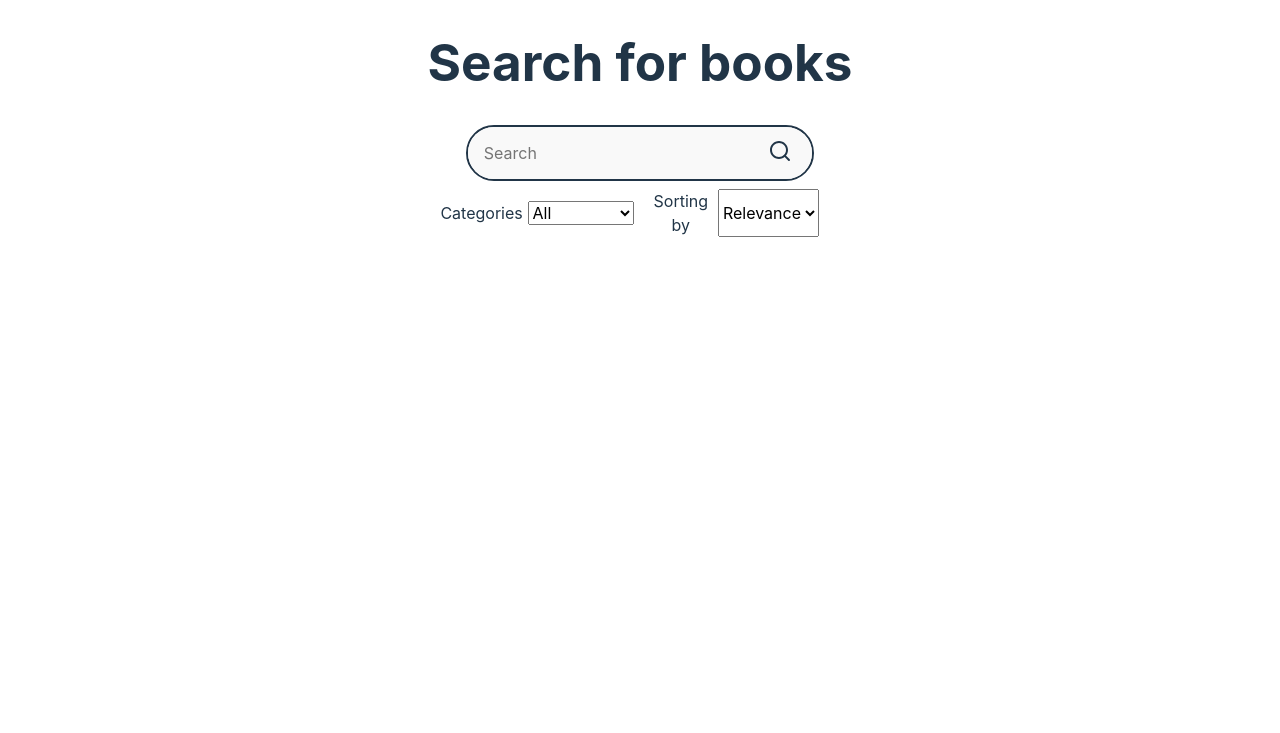
Scenario: should switch between pages
The width and height of the screenshot is (1280, 733).
Type keys "Dawn"
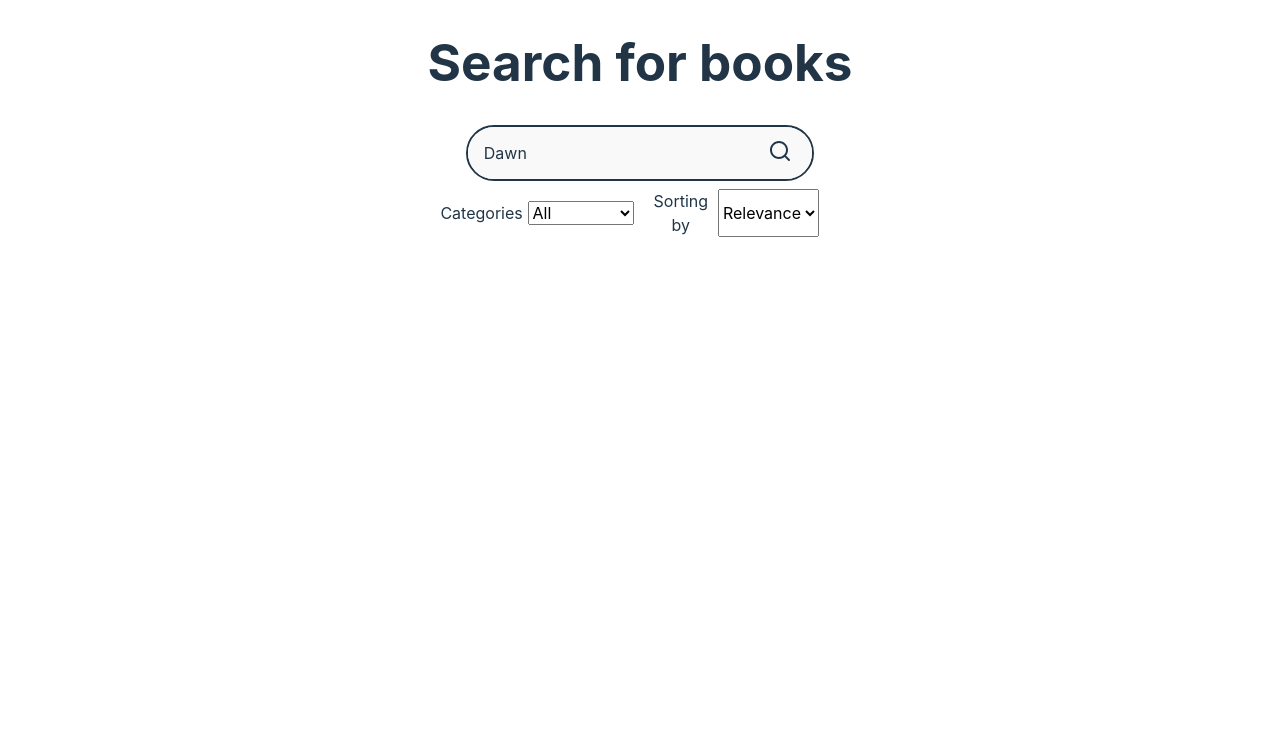
Select "Newest" in the dropdown labelled "Sorting by" at (768, 213), box [718, 189, 819, 237]
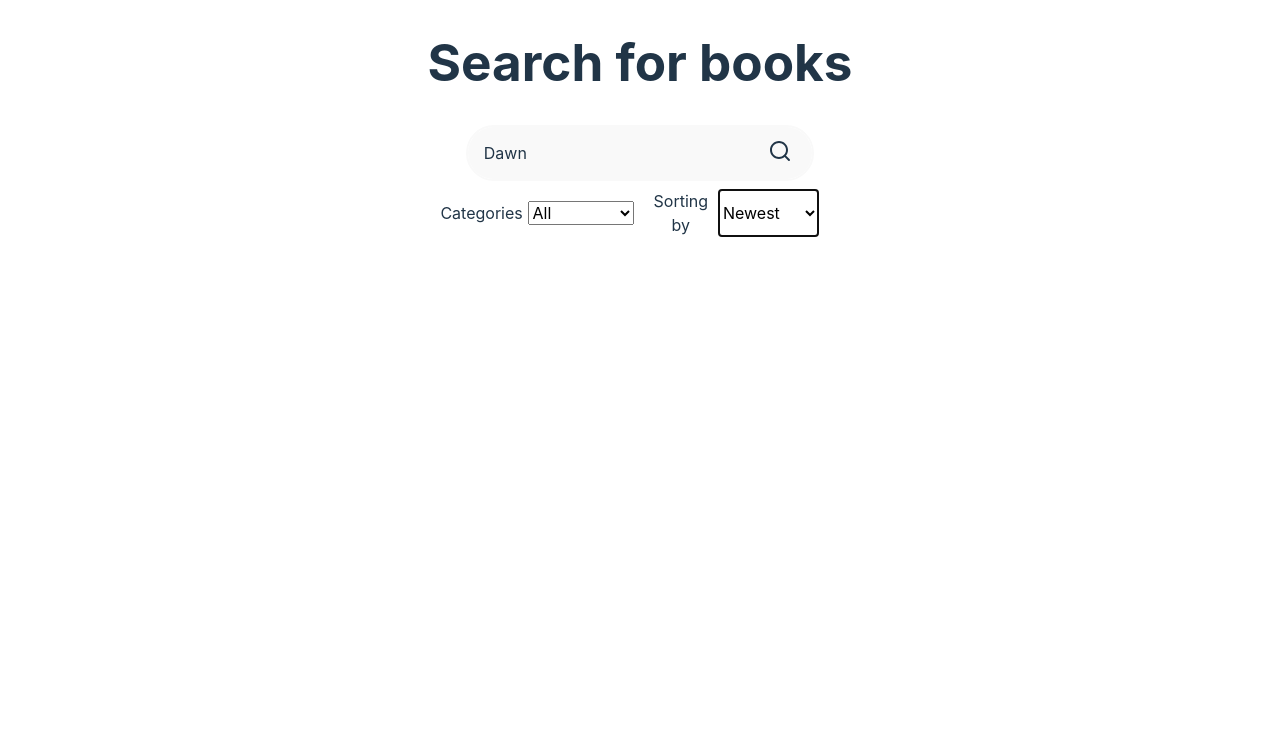
Click the button.
click(780, 153)  # box [748, 127, 812, 179]
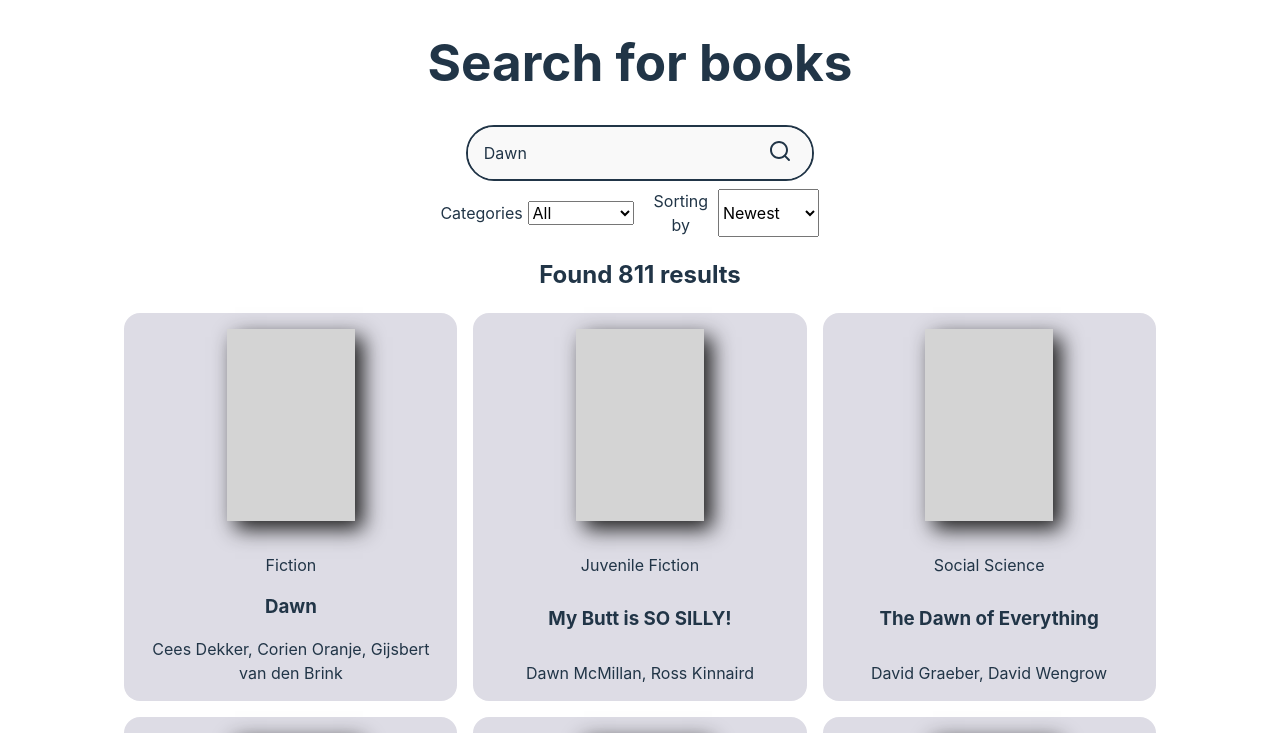
Expected: the heading "Found 811 results" is shown, [539, 260, 741, 289]
Expected: the text "Fiction" is shown, [266, 553, 316, 577]
click on book card and switch to book page
Click the list item with test id "k1HXUT0Zydg".
click(291, 507)  # box [124, 313, 458, 701]
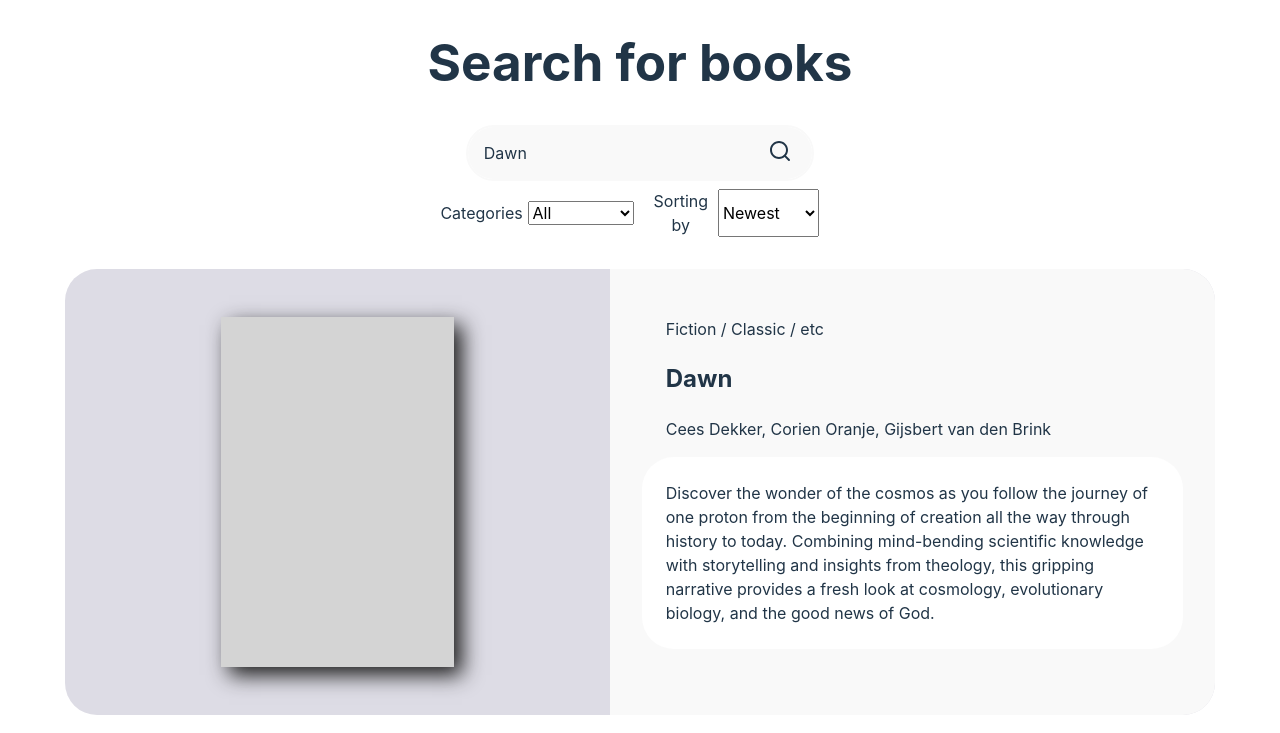
Expected: the text "Discover the wonder of the cosmos as you follow the journey of one proton from the beginning of creation all the way thr" is shown, [666, 483, 1148, 623]
Click the heading "Search for books".
click(640, 62)  # box [428, 31, 852, 93]
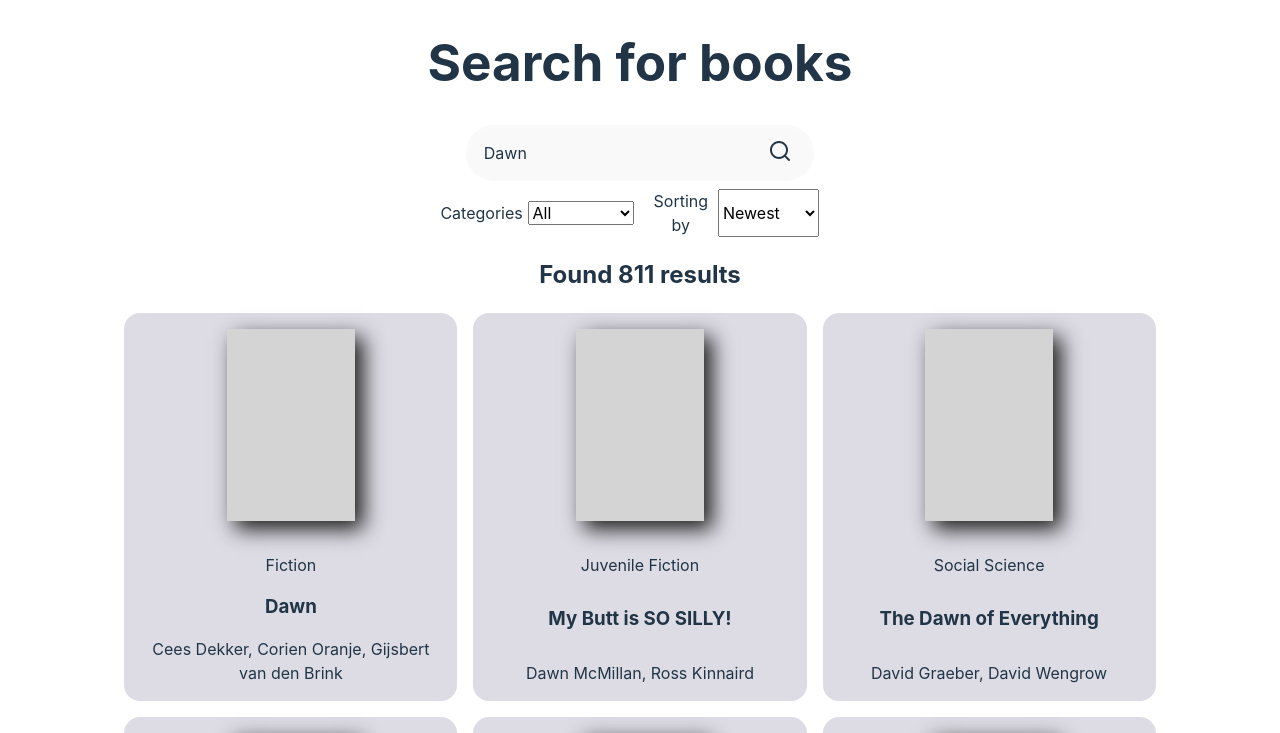
Expected: the list item with test id "k1HXUT0Zydg" is shown, [124, 313, 458, 701]
